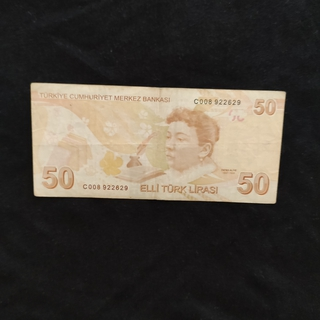50TLBack: (30, 82, 286, 204)
